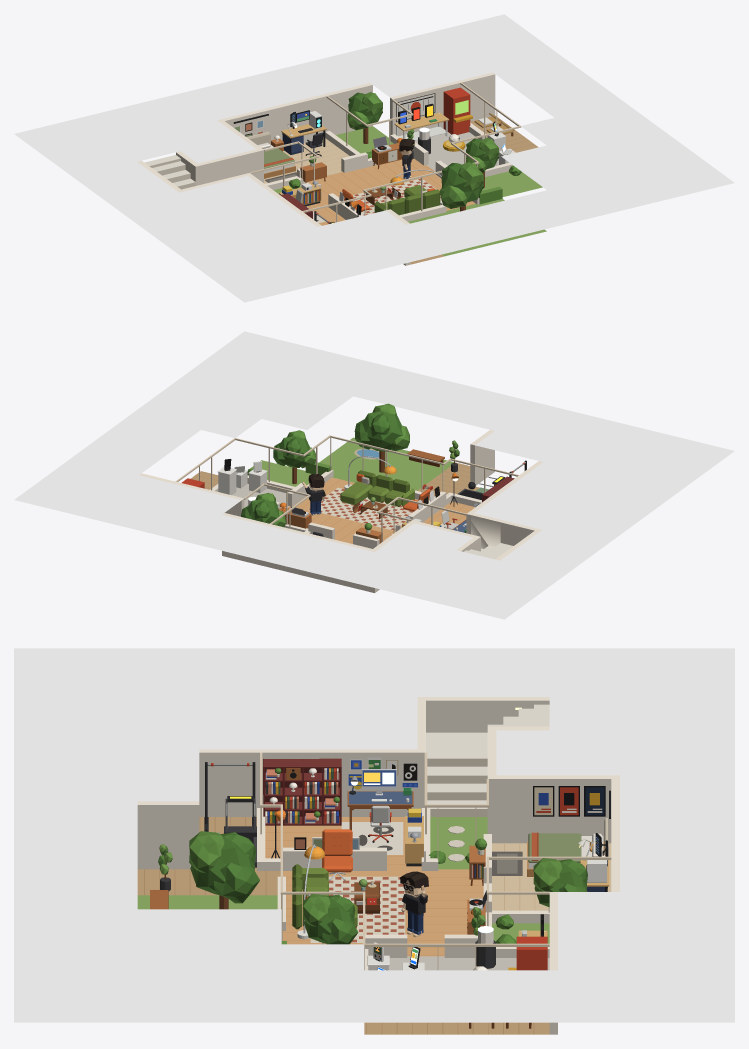
File: house_P2.glb
3 views of the same model, one above another, from view 1: azimuth 30°, elevation 25°; view 2: azimuth 150°, elevation 25°; view 3: azimuth 270°, elevation 25° (orthographic). The views are drawn at different scales.
Parts seen in each view (by area): view 1: page_surface, house_shell, garden_tree_Tree, lab_arcade_Arcade, living_sofaL_Sofa, pocketNE_tree_Tree, bedroom_desk_Desk___PC, lab_desk_Bench, wall_art, bedroom_bed_Bed, pocketSE_tree_Tree, living_console_Turntable (+2 smaller); view 2: page_surface, house_shell, garden_tree_Tree, living_sofaL_Sofa, living_rug_check, pocketSE_tree_Tree, pocketNE_tree_Tree, character_abraham, lab_plinth_Phone, living_console_Turntable; view 3: page_surface, house_shell, studio_bookcase_Books, garden_tree_Tree, wall_art, living_rug_check, pocketSE_tree_Tree, studio_desk_Desk, bedroom_bed_Bed, pocketNE_tree_Tree, living_sofaL_Sofa, living_chair (+10 smaller).
Boxes of the visible parts, <box> form: page_surface: <box>14,14,734,302</box>; house_shell: <box>137,72,546,265</box>; garden_tree_Tree: <box>440,161,483,211</box>; lab_arcade_Arcade: <box>443,87,472,134</box>; living_sofaL_Sofa: <box>374,185,440,215</box>; pocketNE_tree_Tree: <box>347,92,382,143</box>; bedroom_desk_Desk___PC: <box>281,110,326,154</box>; lab_desk_Bench: <box>394,103,449,140</box>; wall_art: <box>233,93,435,215</box>; bedroom_bed_Bed: <box>247,132,295,178</box>; pocketSE_tree_Tree: <box>466,137,499,187</box>; living_console_Turntable: <box>372,136,403,168</box>; page_surface: <box>14,331,734,619</box>; house_shell: <box>139,430,542,592</box>; garden_tree_Tree: <box>354,403,409,472</box>; living_sofaL_Sofa: <box>340,470,414,506</box>; living_rug_check: <box>308,487,412,530</box>; pocketSE_tree_Tree: <box>273,430,315,483</box>; pocketNE_tree_Tree: <box>241,492,285,527</box>; character_abraham: <box>302,474,325,515</box>; lab_plinth_Phone: <box>217,459,236,494</box>; living_console_Turntable: <box>279,502,311,528</box>; page_surface: <box>14,648,734,1022</box>; house_shell: <box>137,697,619,1034</box>; studio_bookcase_Books: <box>263,758,341,825</box>; garden_tree_Tree: <box>189,831,259,909</box>; wall_art: <box>294,756,610,849</box>; living_rug_check: <box>310,876,405,942</box>; pocketSE_tree_Tree: <box>303,893,358,944</box>; studio_desk_Desk: <box>347,769,413,830</box>; bedroom_bed_Bed: <box>527,818,608,876</box>; pocketNE_tree_Tree: <box>533,858,587,907</box>; living_sofaL_Sofa: <box>292,864,357,929</box>; living_chair: <box>322,829,352,880</box>.
Bounding box in the file's own units: 21.5 × 2.66 × 17.5.
